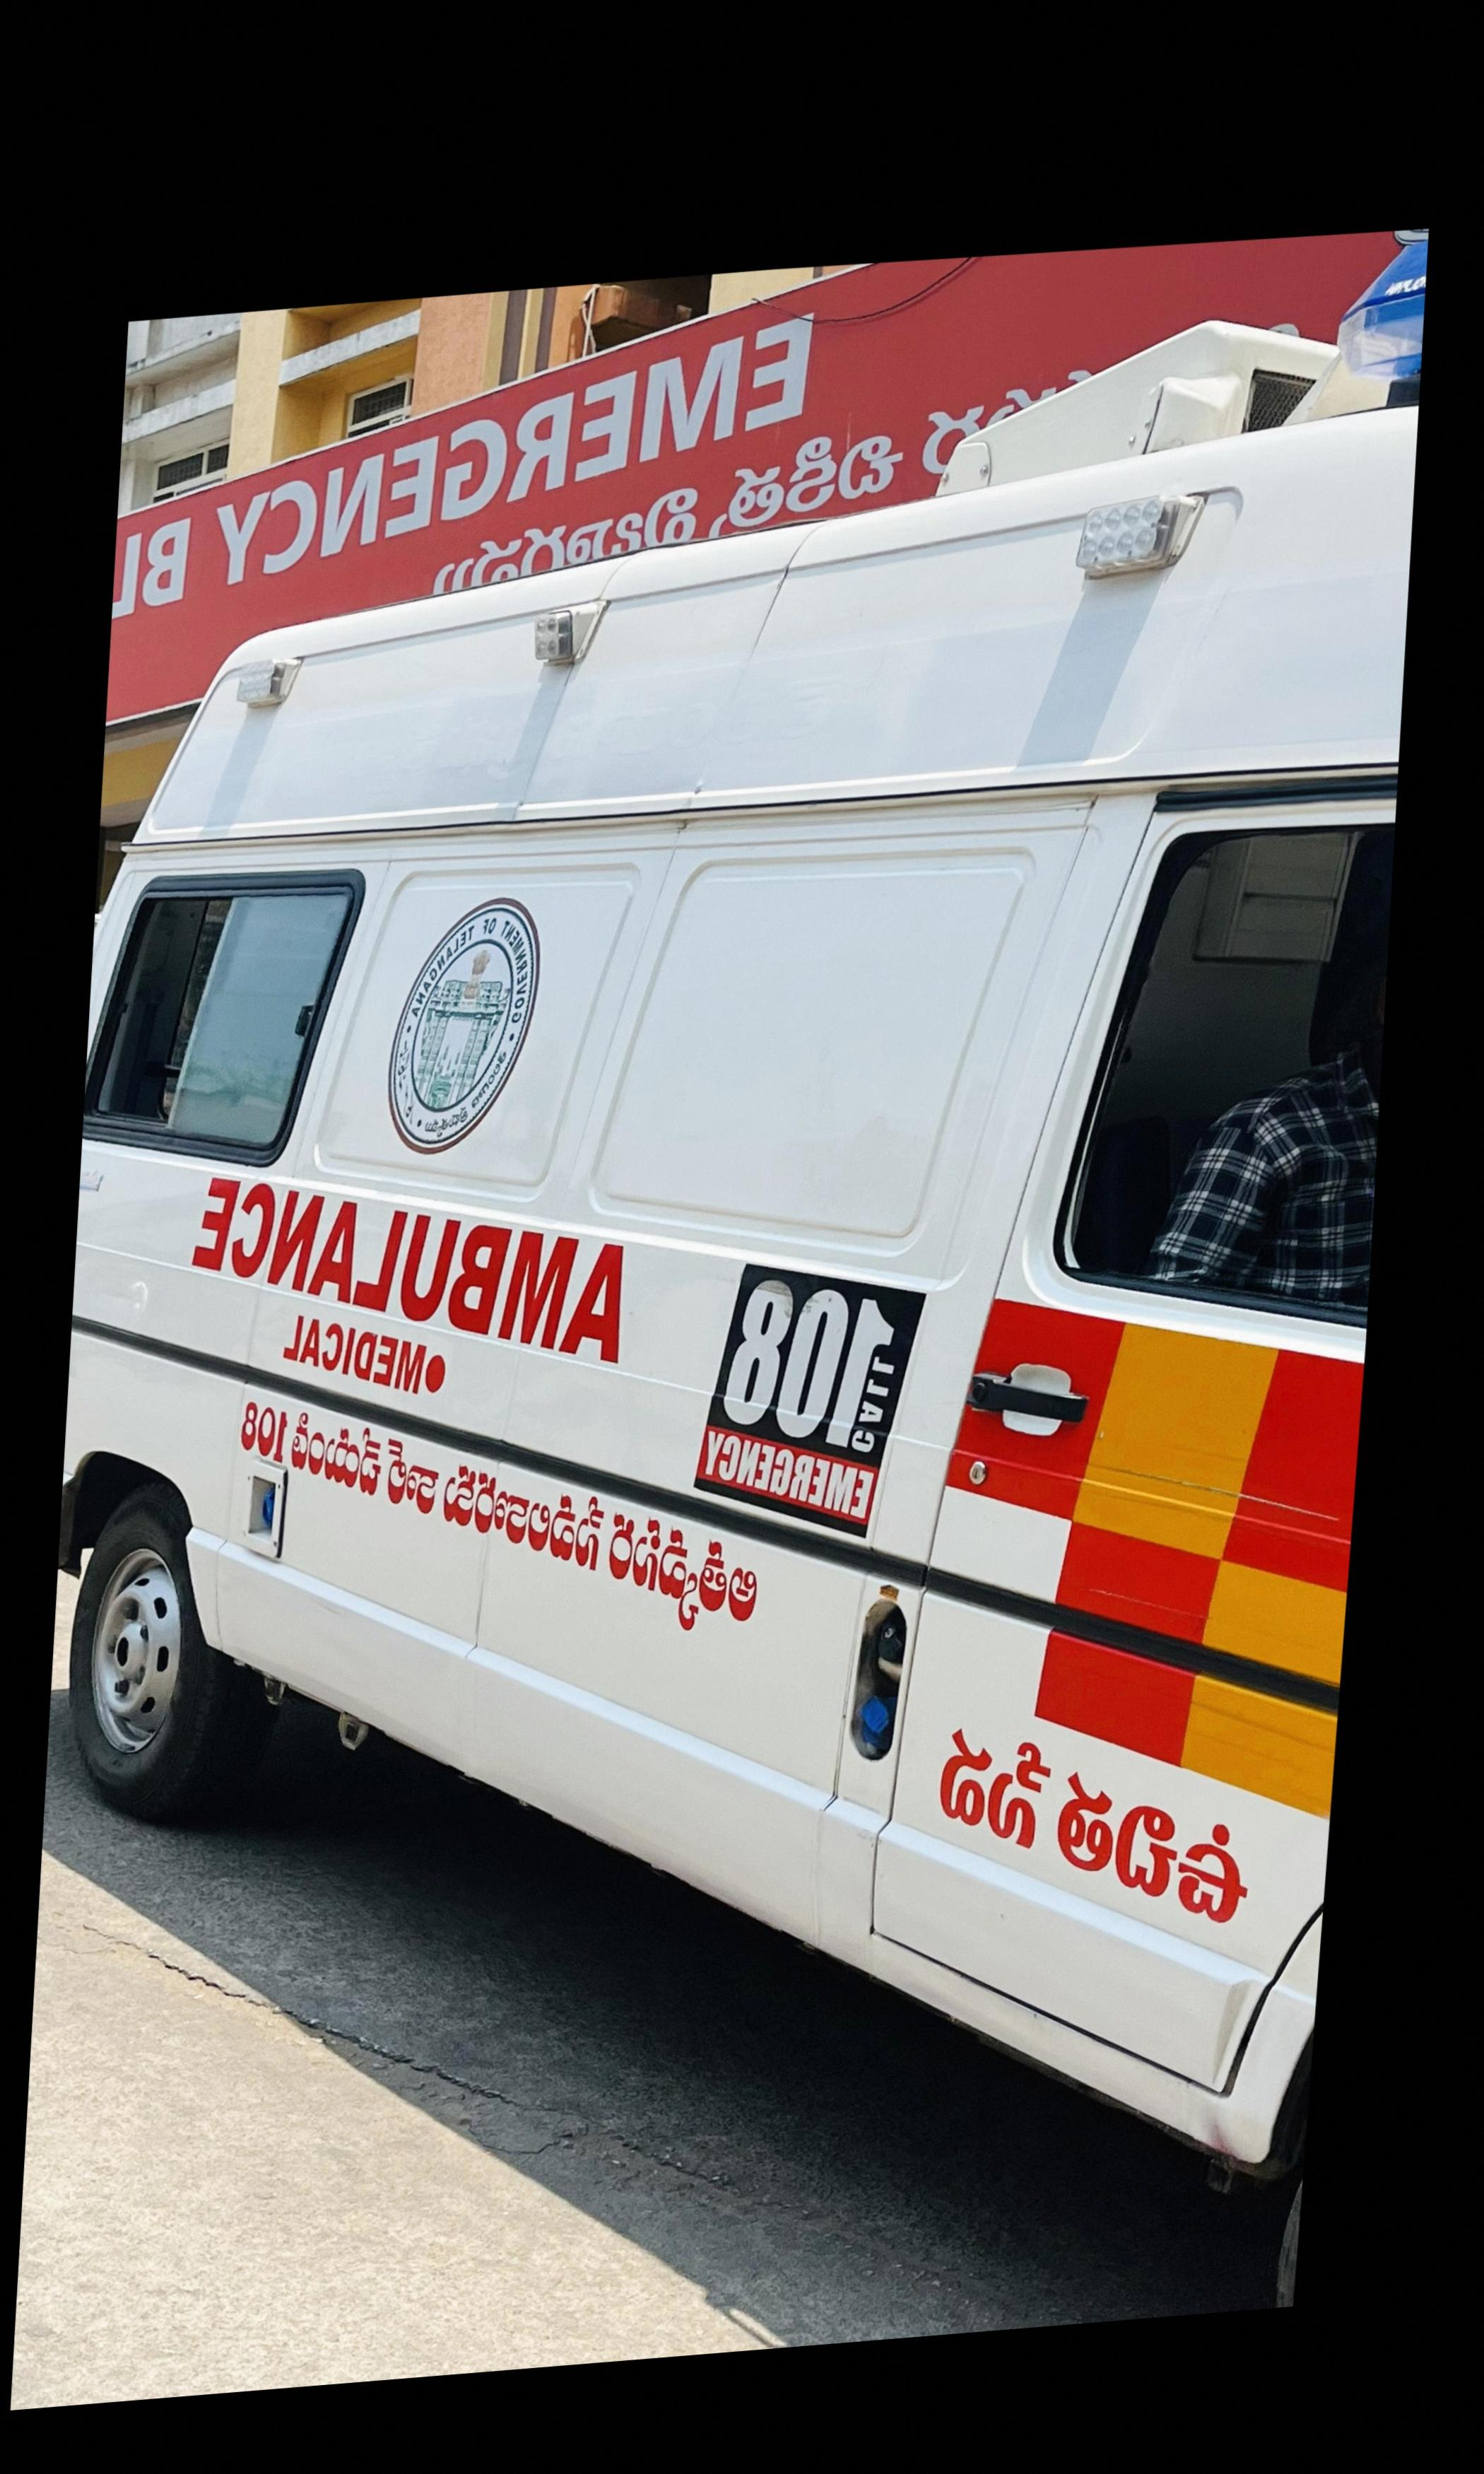ambulance: (58, 399, 1419, 2181)
